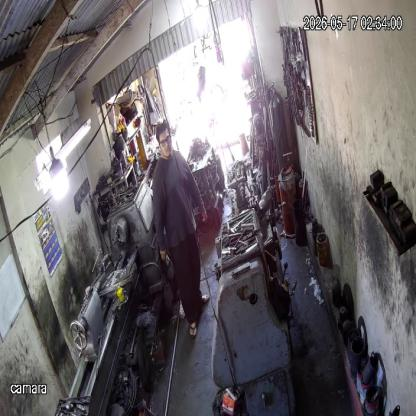lentes: (159, 135, 171, 146)
